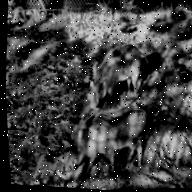boar: (67, 105, 165, 166), (87, 35, 157, 103)
